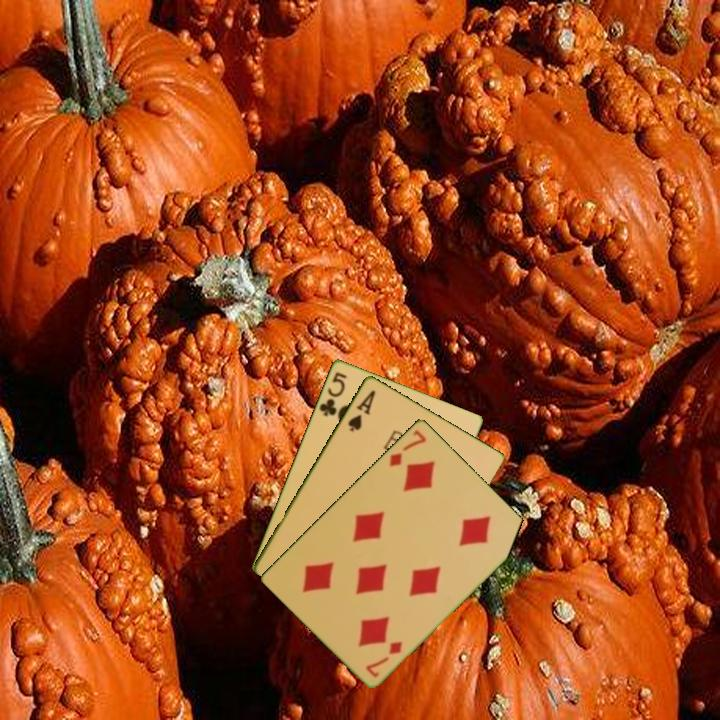5c: (315, 368, 350, 419)
7d: (386, 426, 429, 469), (362, 637, 405, 680)
As: (344, 386, 378, 434)
